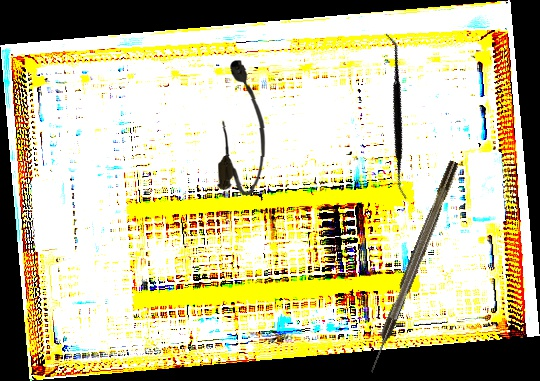Cannula: (217, 59, 269, 196)
Hook Surgical: (365, 159, 461, 375)
Spatula Surgical: (318, 31, 474, 202)
